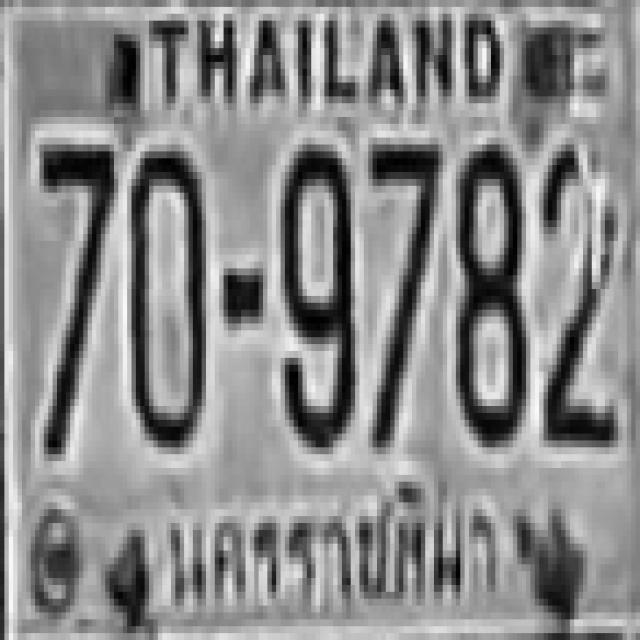0: (127, 144, 202, 440)
2: (537, 141, 616, 444)
7: (37, 138, 112, 447), (368, 141, 438, 444), (368, 138, 438, 364)
8: (452, 137, 522, 440)
9: (276, 137, 351, 440)
NMA: (156, 475, 508, 615)
